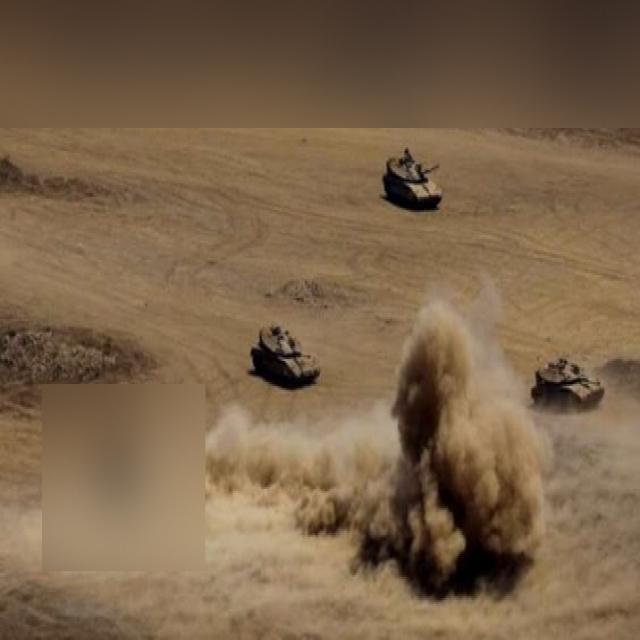tank: (248, 323, 322, 390), (530, 356, 606, 414), (381, 146, 443, 211)
